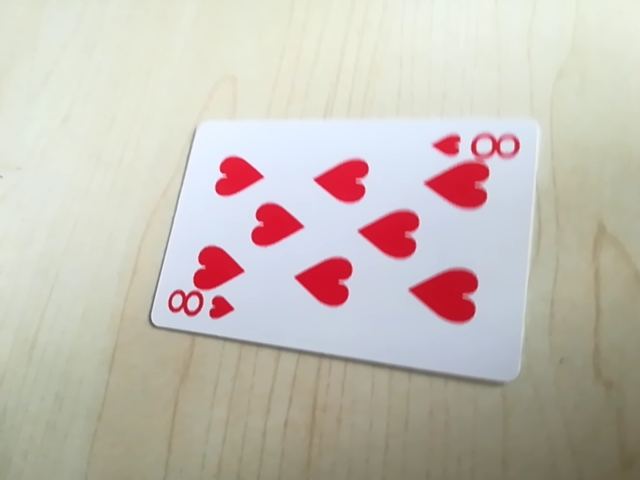hx 8: (426, 121, 526, 165), (163, 288, 237, 326)
